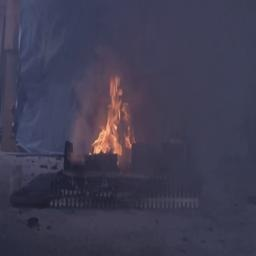fire: (92, 76, 134, 159)
